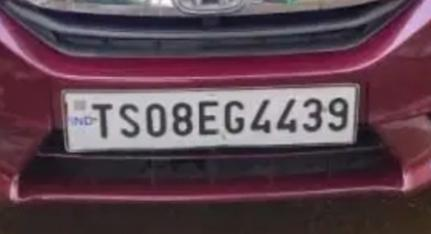0: (143, 98, 169, 142)
3: (301, 95, 324, 135)
4: (277, 92, 301, 139), (248, 96, 275, 137)
8: (171, 97, 197, 144)
9: (325, 95, 353, 135)
E: (196, 97, 222, 141)
G: (221, 95, 247, 141)
S: (117, 98, 142, 143)
T: (89, 98, 117, 145)
